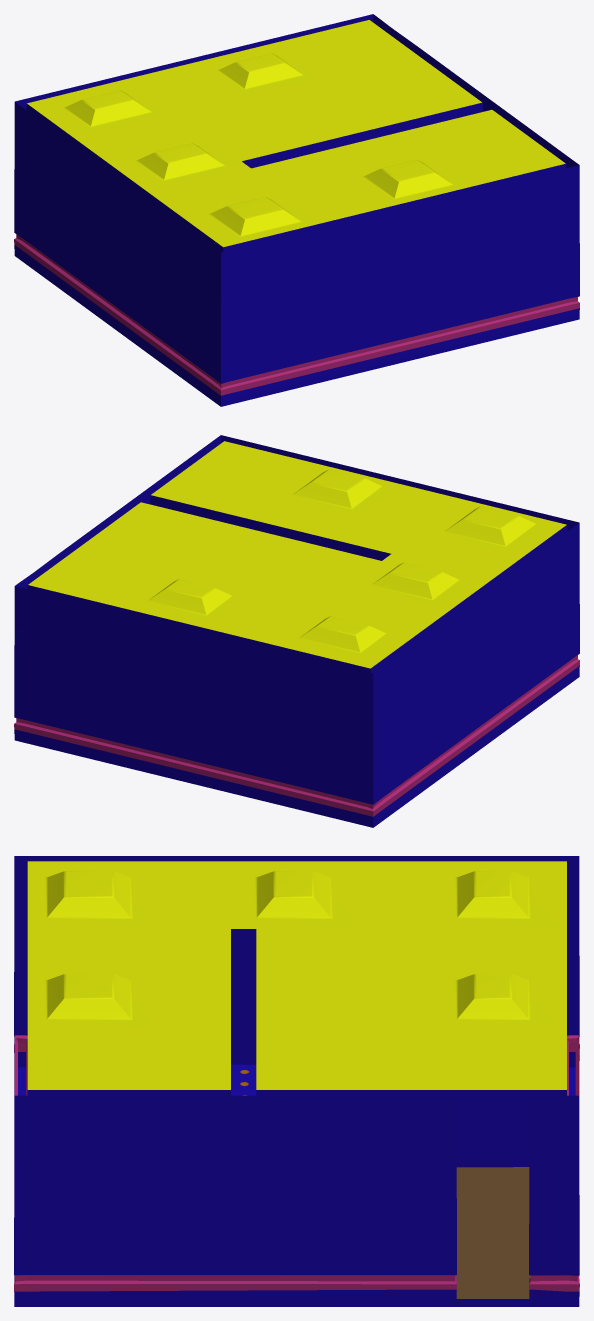
The model's file is Room 1.fbx.
The picture shows the model from 3 angles, top to bottom: view 1: azimuth 30°, elevation 25°; view 2: azimuth 150°, elevation 25°; view 3: azimuth 270°, elevation 25°; orthographic projection. The views are drawn at different scales.
Visible parts, largest first — view 1: Walls, Cieling, Light_well, Wall_bottom; view 2: Walls, Cieling, Light_well, Wall_bottom; view 3: Cieling, Walls, Floor, Wall_bottom, Light_well.
Boxes of the visible parts, box(x1,y1,x2,y2) form: Walls: box(14, 14, 579, 383); Cieling: box(27, 20, 565, 247); Light_well: box(14, 234, 579, 395); Wall_bottom: box(14, 245, 579, 406); Walls: box(14, 435, 579, 804); Cieling: box(28, 441, 566, 668); Light_well: box(14, 655, 579, 816); Wall_bottom: box(14, 666, 579, 827); Cieling: box(27, 861, 566, 1089); Walls: box(14, 856, 579, 1275); Floor: box(455, 1167, 530, 1298); Wall_bottom: box(14, 1052, 579, 1306); Light_well: box(14, 1035, 579, 1291).
Size of the model in its own units: 24.17 by 10.55 by 24.08.
